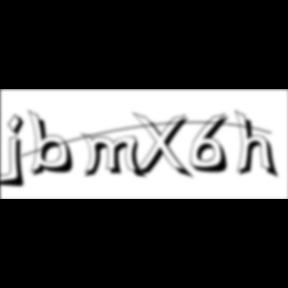6: (190, 112, 236, 176)
X: (132, 112, 196, 182)
b: (28, 109, 80, 179)
h: (236, 108, 282, 182)
j: (4, 113, 32, 191)
m: (81, 132, 149, 181)
